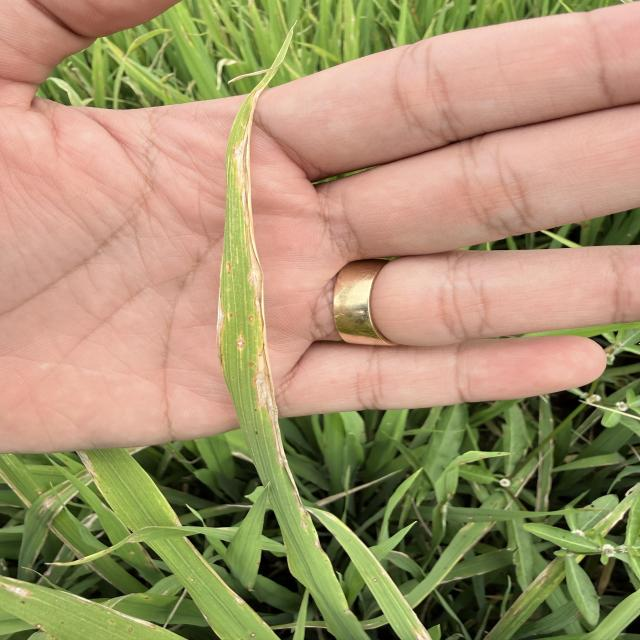Chay bia la: (233, 23, 291, 470)
